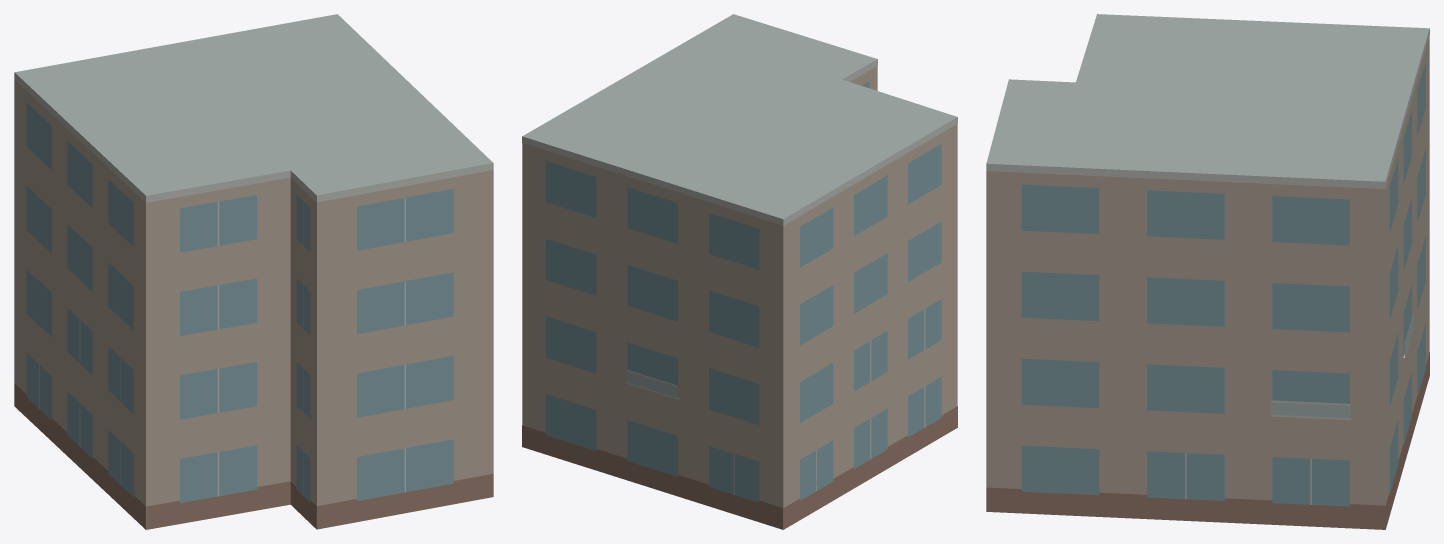
The model's file is survey-upis-33020209.glb.
3 views of the same model, side by side, from view 1: azimuth 30°, elevation 25°; view 2: azimuth 150°, elevation 25°; view 3: azimuth 270°, elevation 25° (orthographic). The views are drawn at different scales.
Visible parts, largest first — view 1: survey-upis-33020209.tmp; view 2: survey-upis-33020209.tmp; view 3: survey-upis-33020209.tmp.
Boxes of the visible parts, x1,y1,x2,y2 form: survey-upis-33020209.tmp: (14,14,493,529); survey-upis-33020209.tmp: (522,14,957,529); survey-upis-33020209.tmp: (986,14,1429,529).
Bounding box in the file's own units: 11.97 × 11.57 × 13.37.
